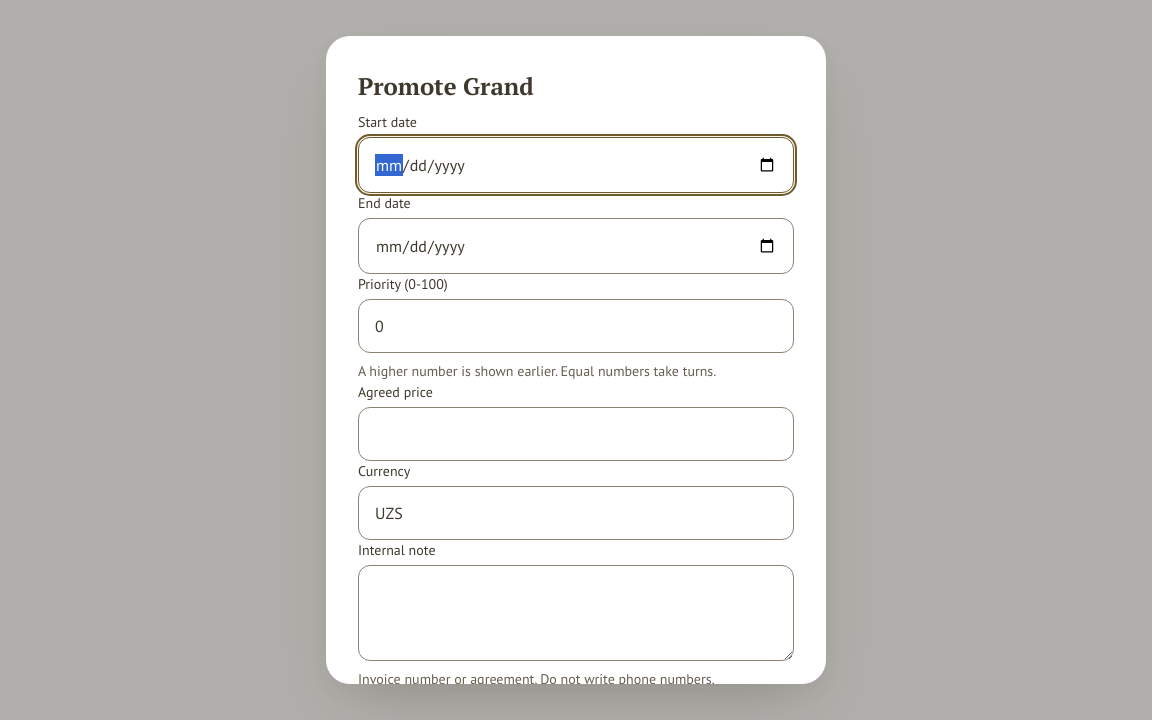
CreatePromotionDialog › reports a priority over the limit in the page language, not in the browser's, and sends nothing
Type "2026-11-01" into the date field labelled "Start date" at (576, 165), box left=358, top=137, right=794, bottom=193
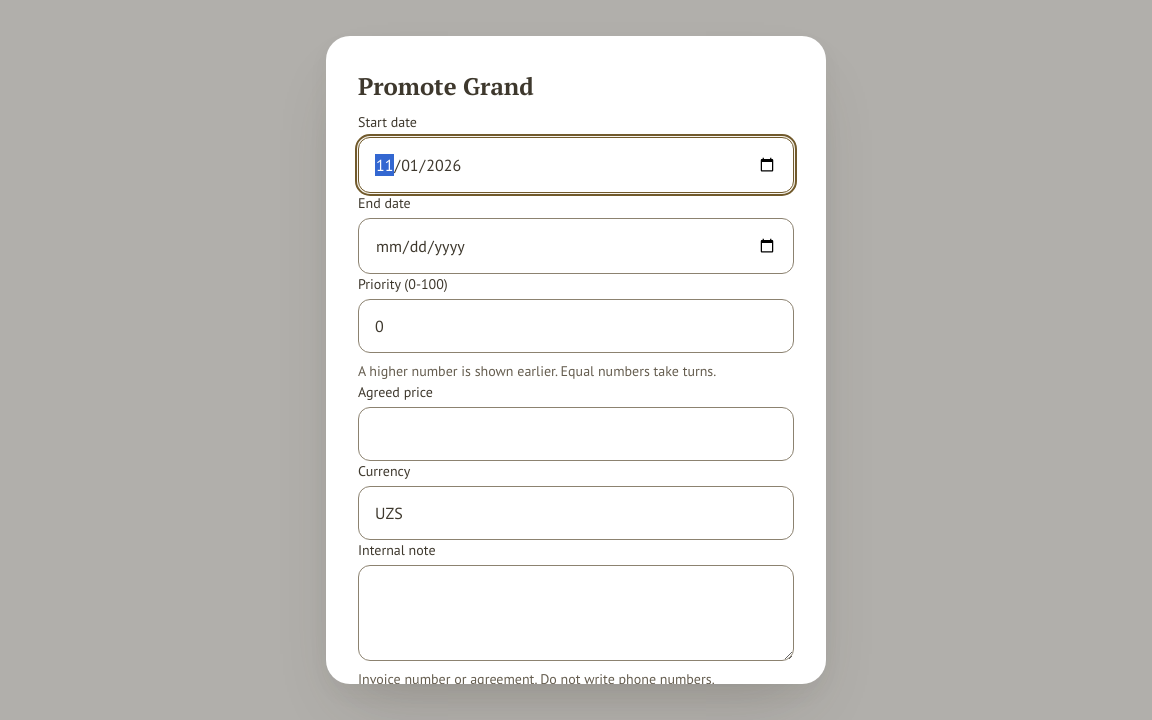
Type "2026-11-10" into the date field labelled "End date" at (576, 246), box left=358, top=218, right=794, bottom=274
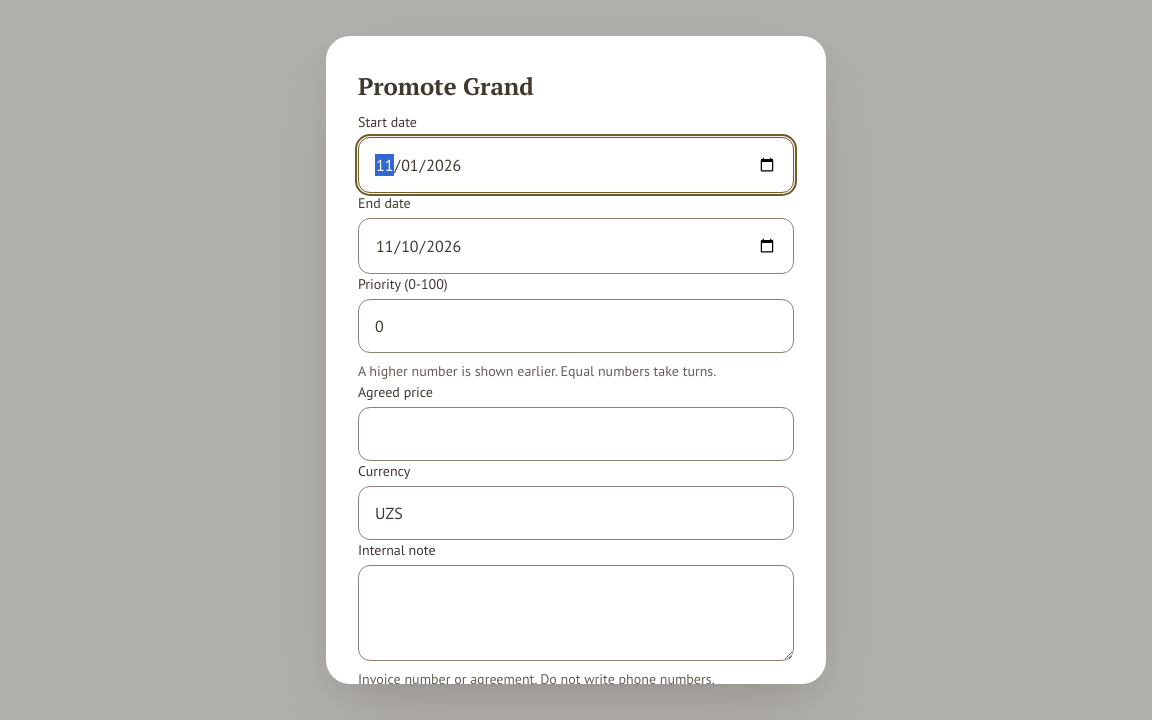
Replace the text in the number field labelled "Priority (0-100)" with "150" at (576, 326), box left=358, top=299, right=794, bottom=353
(page scrolled)
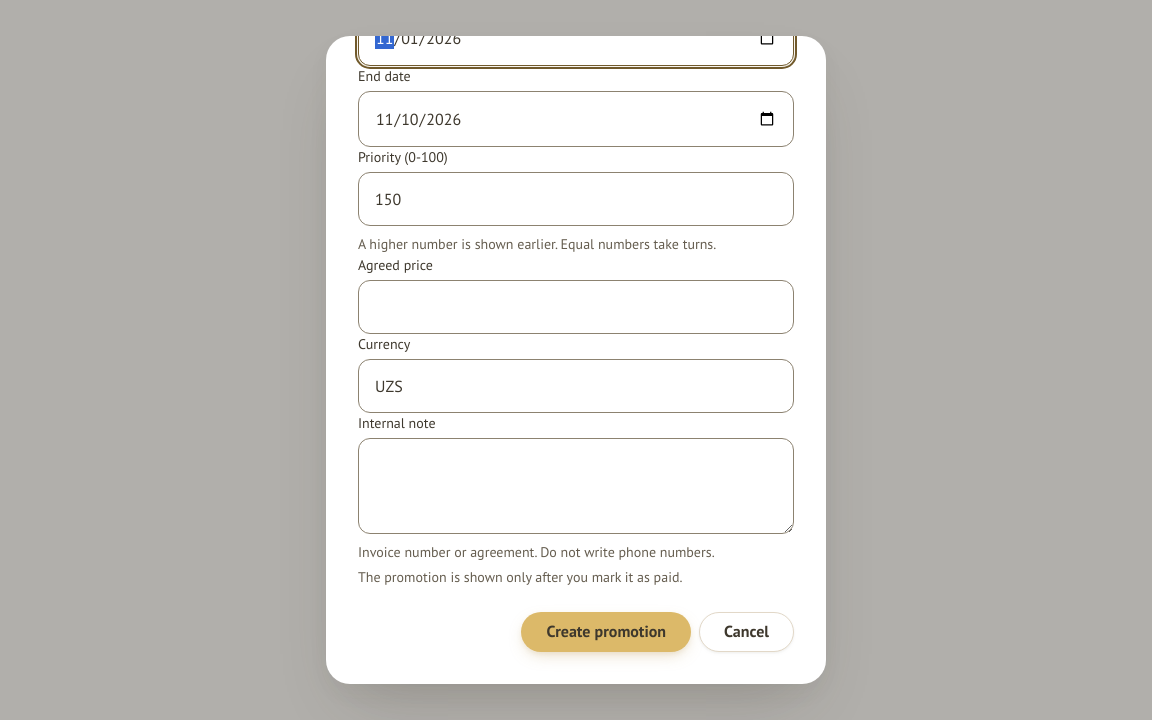
Click the button "Create promotion" at (606, 632), box left=521, top=612, right=691, bottom=652
(page scrolled)
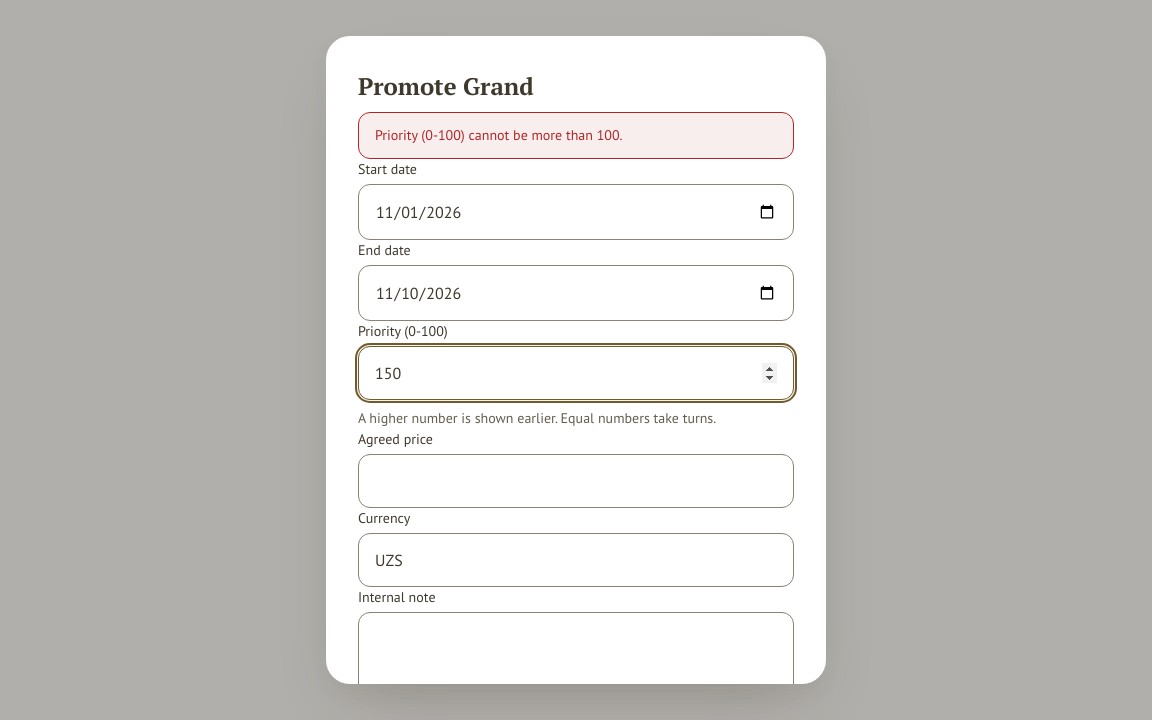
expect the message reads "Priority (0-100) cannot be more than 100.": met, box left=375, top=126, right=623, bottom=144
